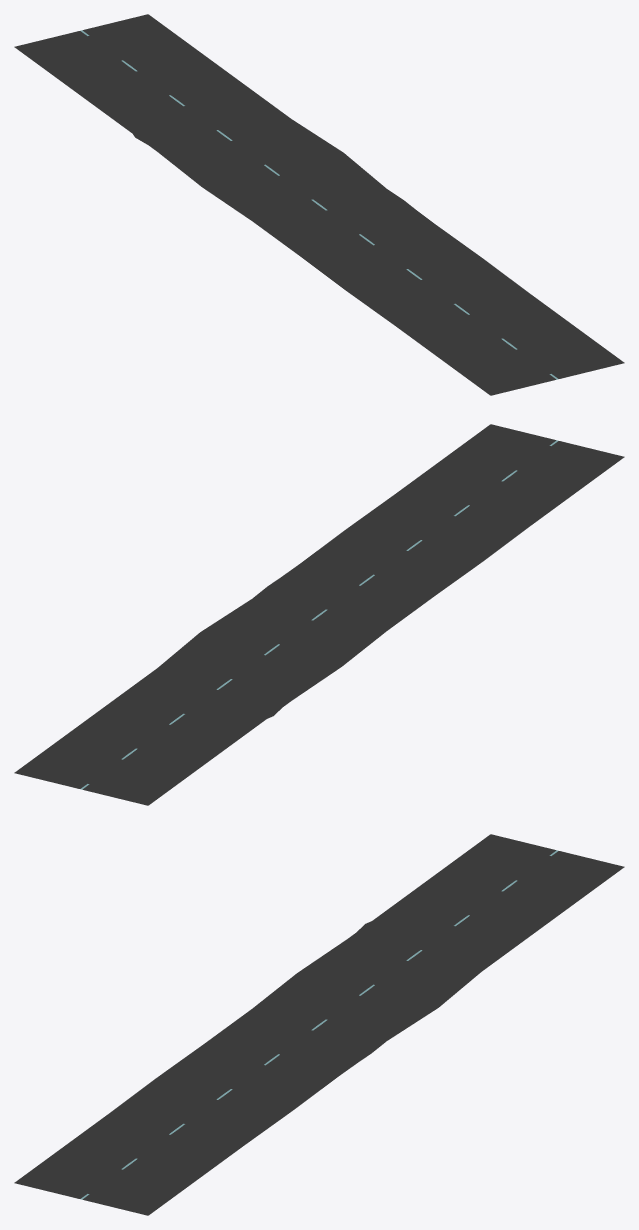
Rendered from model_road_straight_1_.fbx.
3 renders of one model, top to bottom at view 1: azimuth 30°, elevation 25°; view 2: azimuth 150°, elevation 25°; view 3: azimuth 330°, elevation 25°, orthographic.
Visible parts, largest first — view 1: model_road_dirt_straight_01.001; view 2: model_road_dirt_straight_01.001; view 3: model_road_dirt_straight_01.001.
Part boxes in pixels (box(x1,y1,x2,y2)): model_road_dirt_straight_01.001: box(14, 14, 624, 395); model_road_dirt_straight_01.001: box(14, 424, 624, 805); model_road_dirt_straight_01.001: box(14, 834, 624, 1215).
Bounding box in the file's own units: 0.1057 × 0.6161 × 1e-07.
